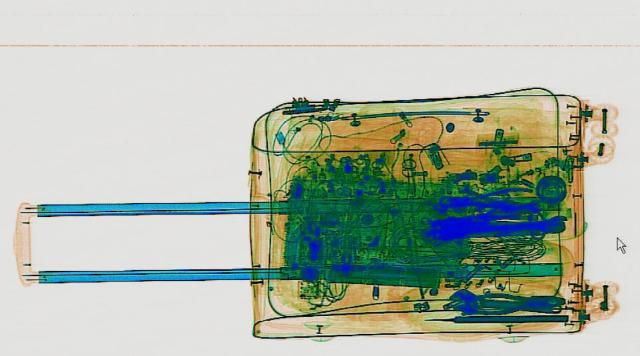Pliers: (460, 290, 564, 313), (447, 185, 538, 210)
Wrench: (442, 285, 566, 320)
